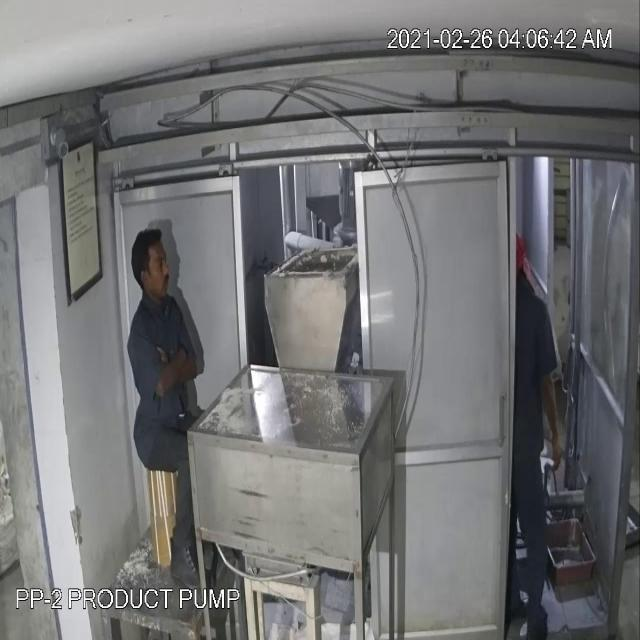no-helmet: (128, 218, 169, 284)
